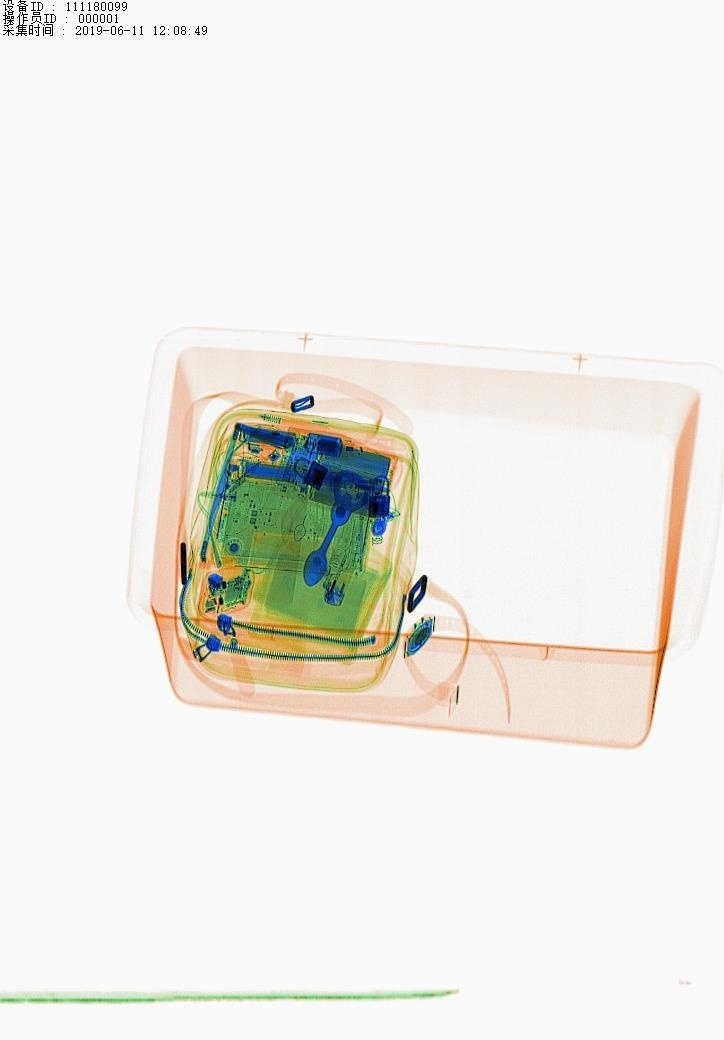NonmetallicFire: (321, 509, 389, 615)
